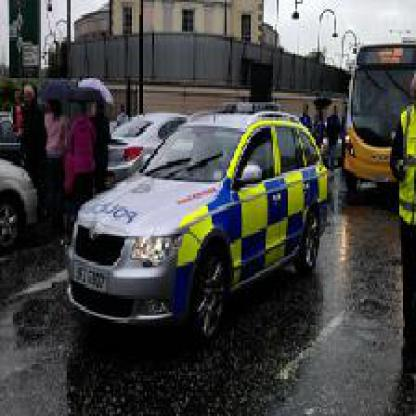emergency: (61, 106, 346, 343)
